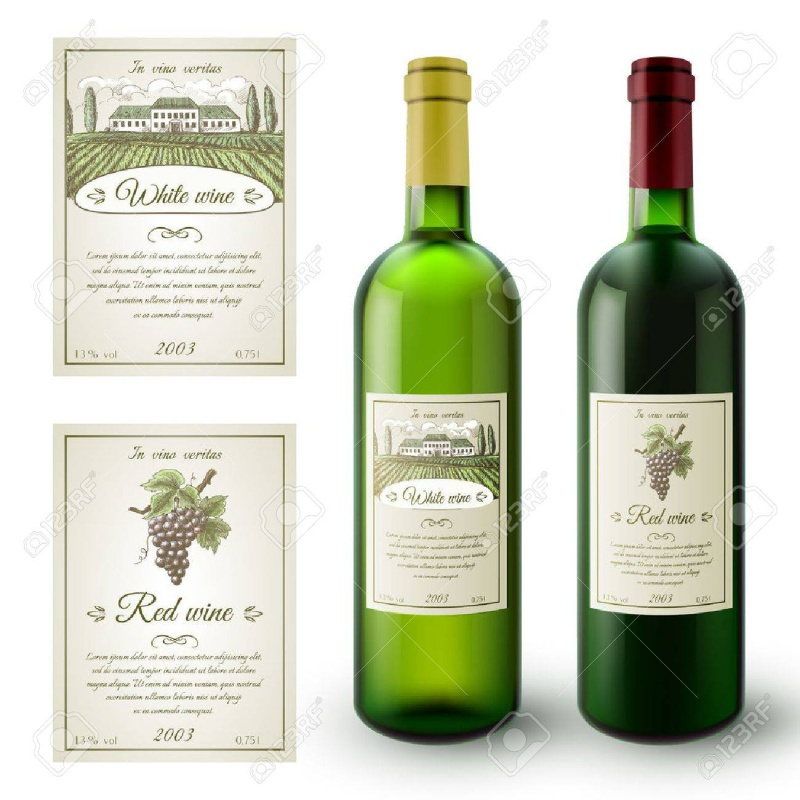wine: (567, 58, 752, 725), (362, 57, 521, 728)
